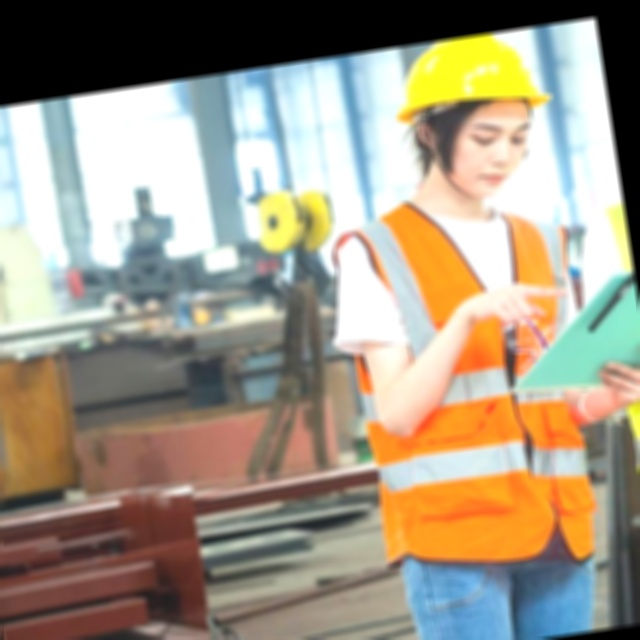Con_Casco: (388, 27, 562, 212)
Con_Chaleco: (335, 189, 612, 586)
